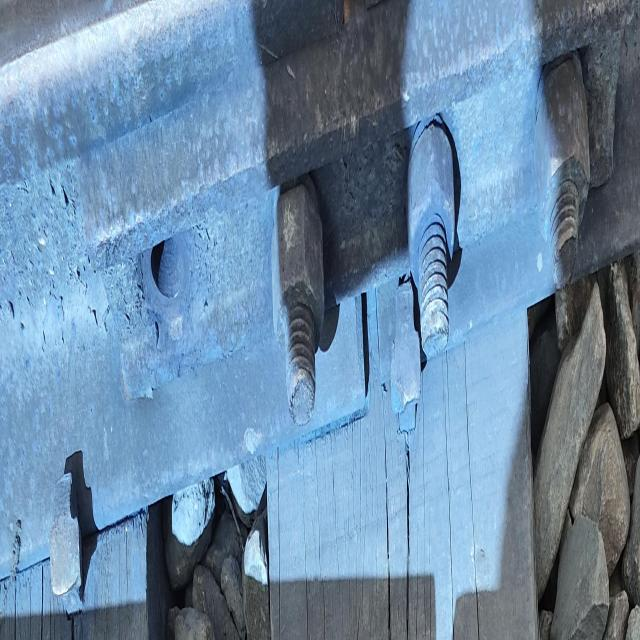Defective Joint: (68, 0, 623, 444)
